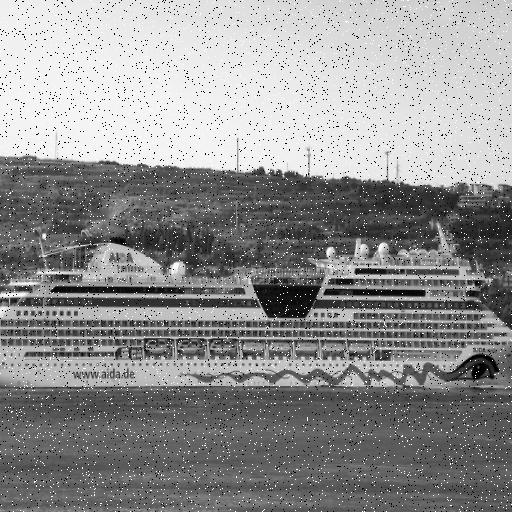cruises: (1, 216, 512, 403)
